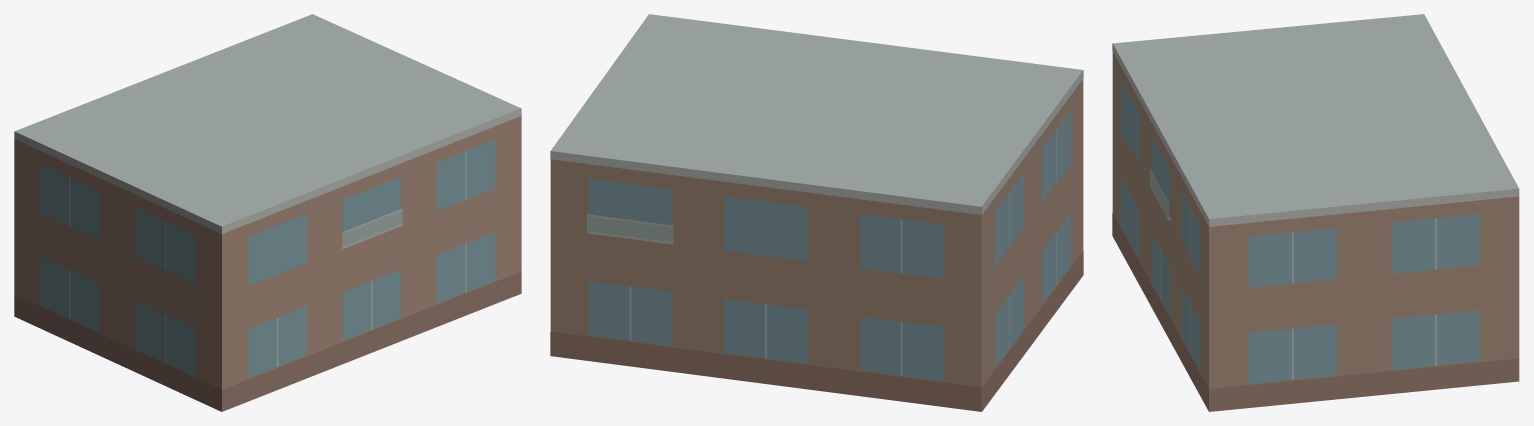
File: survey-upis-32597468.glb
The picture shows the model from 3 angles, left to right: view 1: azimuth 30°, elevation 25°; view 2: azimuth 150°, elevation 25°; view 3: azimuth 270°, elevation 25°; orthographic projection. The views are drawn at different scales.
Parts seen in each view (by area): view 1: survey-upis-32597468.tmp; view 2: survey-upis-32597468.tmp; view 3: survey-upis-32597468.tmp.
Part boxes in pixels (left/top/right/bottom): survey-upis-32597468.tmp: left=14, top=14, right=521, bottom=411; survey-upis-32597468.tmp: left=550, top=14, right=1083, bottom=411; survey-upis-32597468.tmp: left=1112, top=14, right=1519, bottom=411.
Size of the model in its own units: 13.94 by 6.1 by 11.68.
